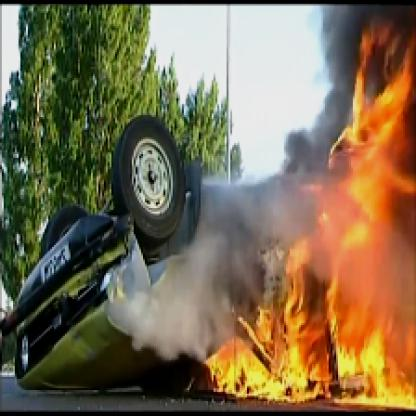Fire: (193, 48, 414, 410)
